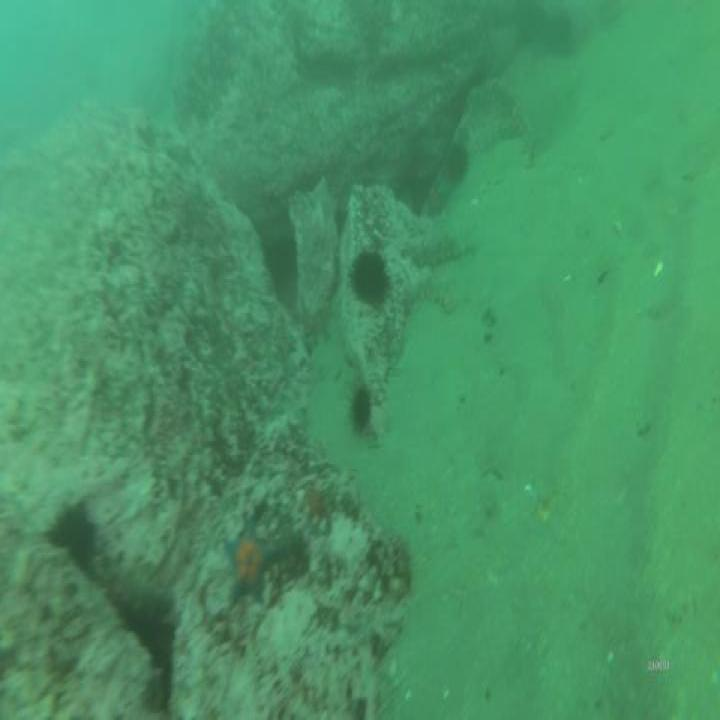echinus: (46, 500, 98, 570), (346, 243, 394, 308), (345, 375, 378, 437), (441, 137, 472, 181)
holothurian: (505, 80, 537, 165), (411, 227, 475, 265), (401, 272, 457, 311)
starfish: (221, 512, 281, 608)
